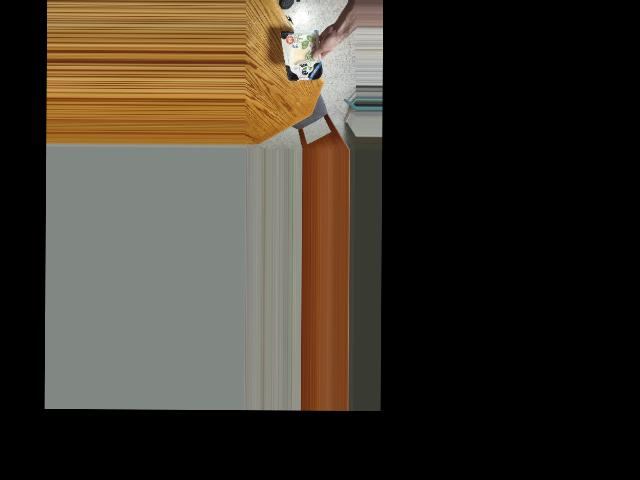cheese: (280, 24, 325, 87)
